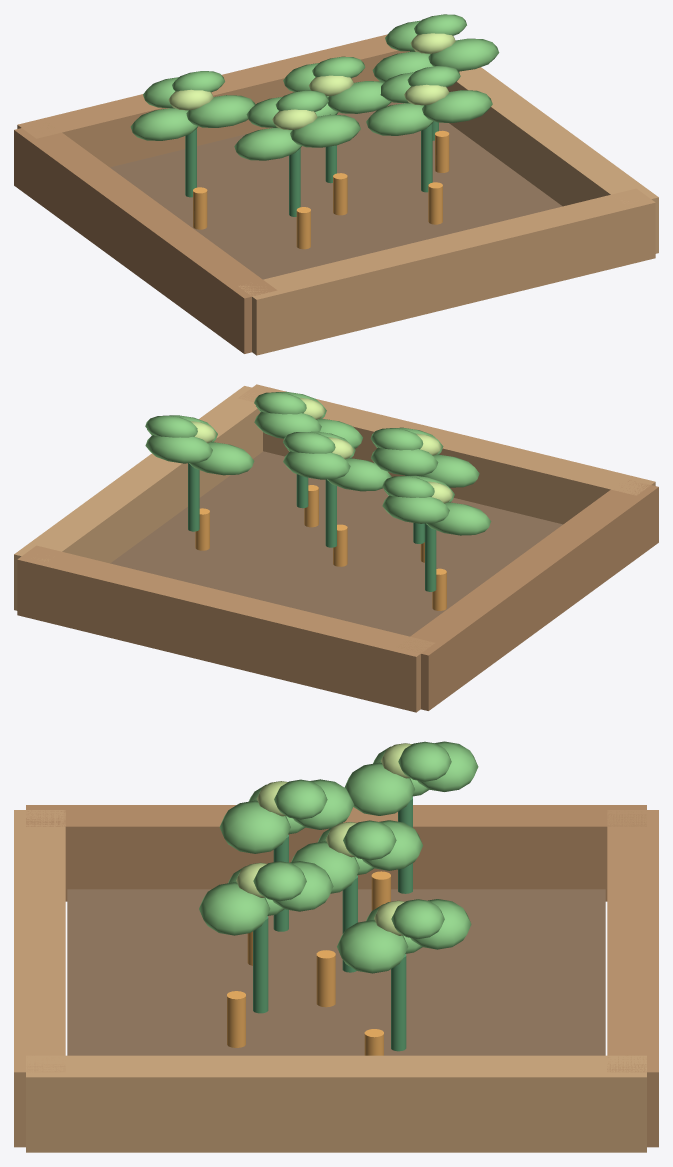
Rendered from crop_root_mid.glb.
3 views of the same model, one above another, from view 1: azimuth 30°, elevation 25°; view 2: azimuth 150°, elevation 25°; view 3: azimuth 270°, elevation 25° (orthographic). The views are drawn at different scales.
Bounding box in the file's own units: 0.935 × 0.3299 × 0.935.
